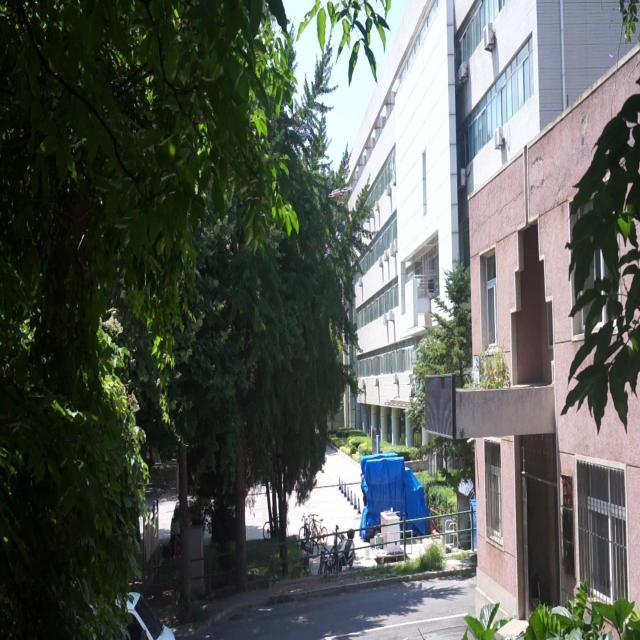drone: (327, 180, 351, 206)
